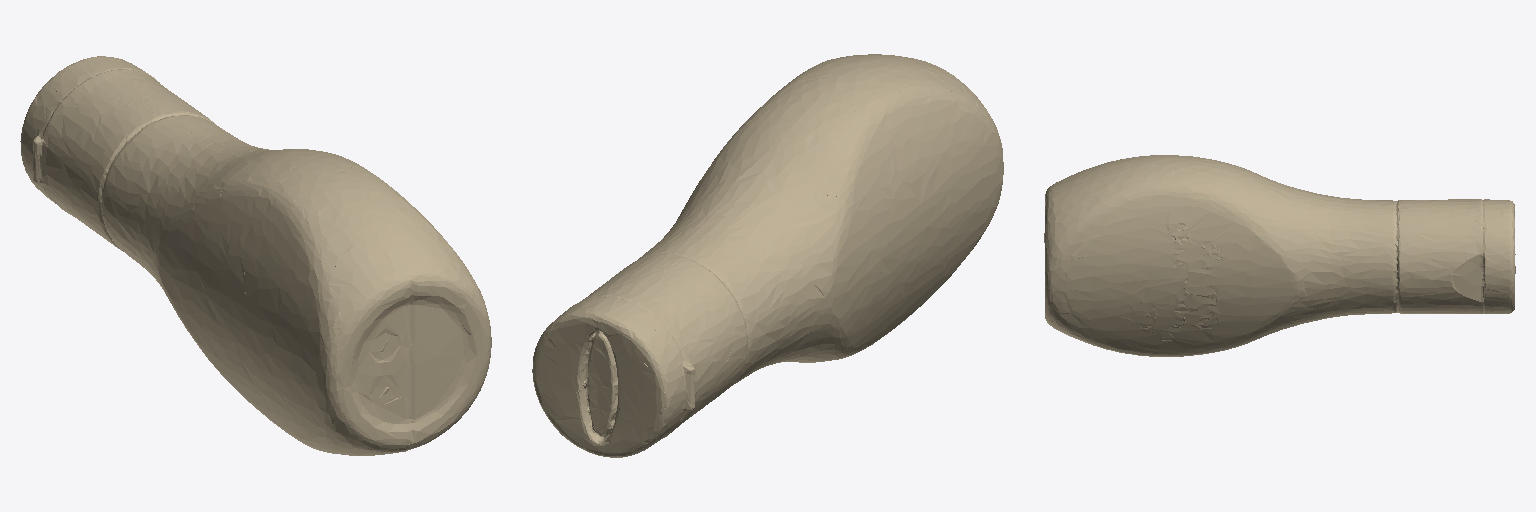
robot.urdf — object_70709727230291:
<?xml version="1.0"?>
<!-- Auto-generated by convert_assets.py from objects/70709727230291.
     Inertial: density 800.0 kg/m^3, raw mass 0.199877 kg clamped to 0.199877 kg (inertia scaled to match). -->
<robot name="object_70709727230291">
  <link name="baseLink">
    <inertial>
      <origin rpy="0 0 0" xyz="-0.000781860004 0.0626519416 -0.00233638917"/>
      <mass value="0.199877419"/>
      <inertia ixx="0.00036004006" ixy="7.73519811e-07" ixz="7.20524897e-08" iyy="6.0972717e-05" iyz="1.24226045e-06" izz="0.000345717492"/>
    </inertial>
    <visual>
      <origin rpy="0 0 0" xyz="0 0 0"/>
      <geometry><mesh filename="../visual.obj" scale="1.0 1.0 1.0"/></geometry>
      <material name="mat"><color rgba="0.75 0.7 0.6 1"/></material>
    </visual>
    <collision name="collision_0">
      <origin rpy="0 0 0" xyz="0 0 0"/>
      <geometry><mesh filename="../convex/0.obj" scale="1.0 1.0 1.0"/></geometry>
    </collision>
    <collision name="collision_1">
      <origin rpy="0 0 0" xyz="0 0 0"/>
      <geometry><mesh filename="../convex/1.obj" scale="1.0 1.0 1.0"/></geometry>
    </collision>
  </link>
</robot>

--- What the picture shows (computed from the rendered views, not written in the file) ---
The picture shows the robot from 3 angles, left to right: view 1: azimuth 30°, elevation 25°; view 2: azimuth 150°, elevation 25°; view 3: azimuth 270°, elevation 25°; orthographic projection.
Robot: object_70709727230291 — 1 links, 0 joints (none); root link baseLink; default pose: all joints at 0.
Visible links, largest first — view 1: baseLink; view 2: baseLink; view 3: baseLink.
Link boxes in pixels (box(x1,y1,x2,y2)): baseLink: box(20, 56, 491, 455); baseLink: box(532, 54, 1003, 457); baseLink: box(1044, 155, 1515, 356).
Size in the robot's own frame: 0.0437 by 0.1471 by 0.0639 metres.
Meshes: 1 distinct files referenced, 1 mesh visuals loaded (1 OBJ).
